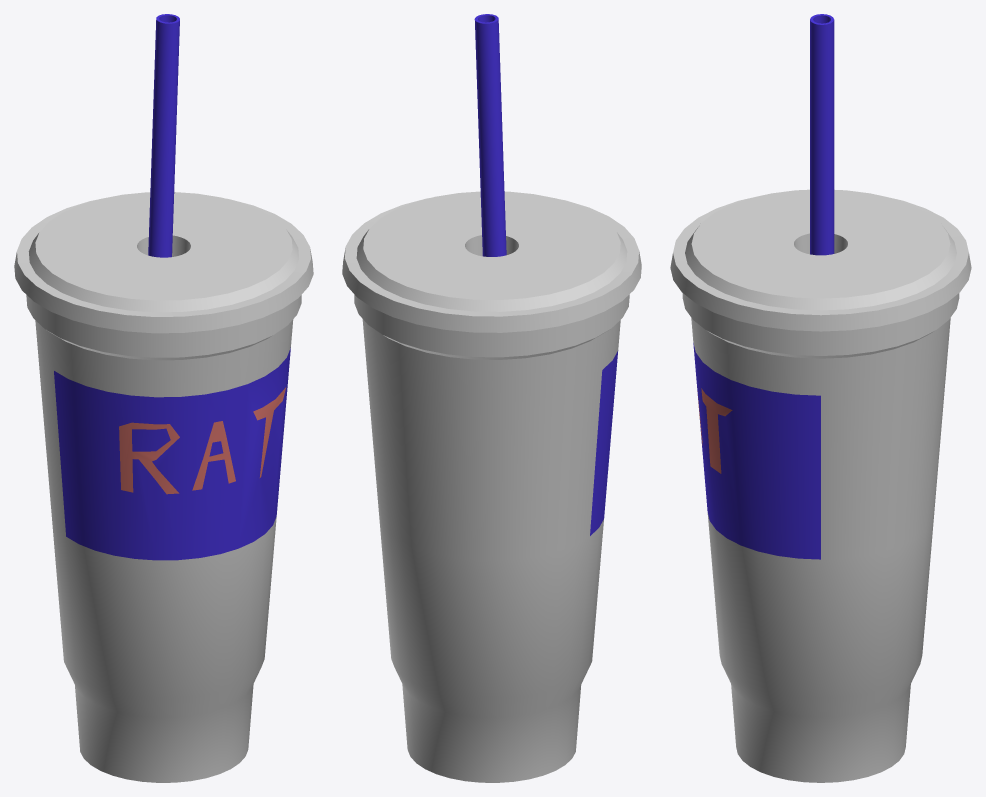
The model's file is Sodie1.fbx.
3 views of the same model, side by side, from view 1: azimuth 30°, elevation 25°; view 2: azimuth 150°, elevation 25°; view 3: azimuth 270°, elevation 25° (orthographic).
Visible parts, largest first — view 1: Circle; view 2: Circle; view 3: Circle.
Boxes of the visible parts, x1,y1,x2,y2 form: Circle: (14, 14, 313, 782); Circle: (342, 14, 641, 782); Circle: (670, 14, 971, 782).
Bounding box in the file's own units: 634 × 1695 × 634.
